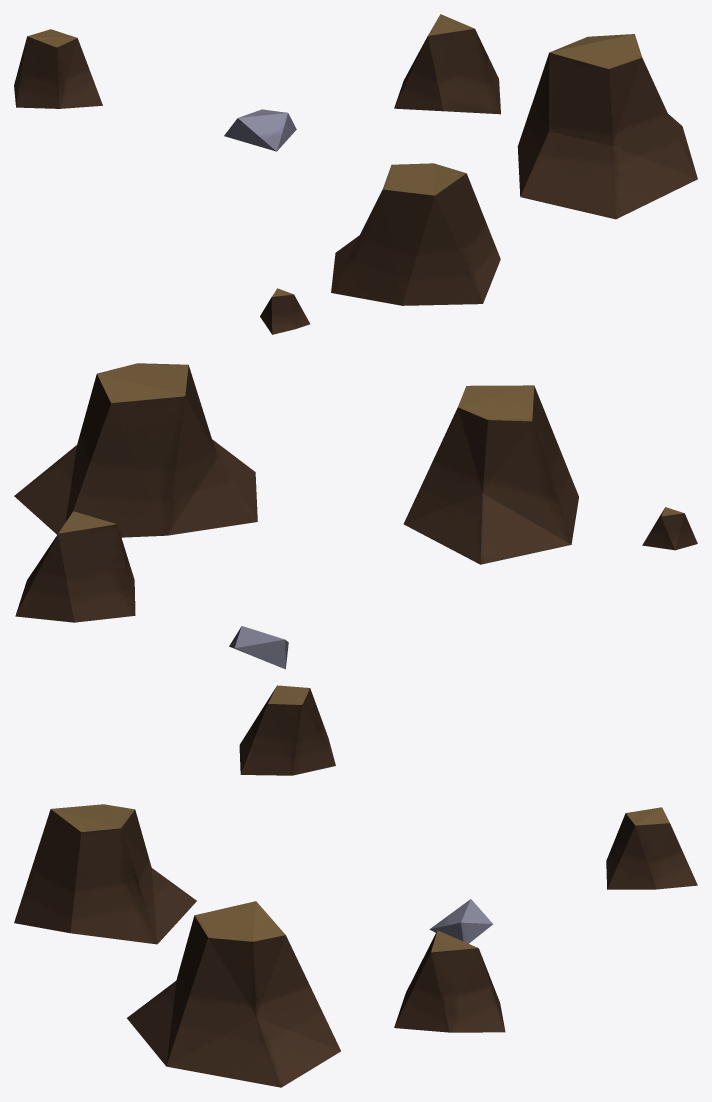
The model's file is tile_wood_2_ruin_lod2.fbx.
3 views of the same model, one above another, from view 1: azimuth 30°, elevation 25°; view 2: azimuth 150°, elevation 25°; view 3: azimuth 270°, elevation 25° (orthographic). The views are drawn at different scales.
Visible parts, largest first — view 1: wood_2_ruin_LOD2; view 2: wood_2_ruin_LOD2; view 3: wood_2_ruin_LOD2.
Part boxes in pixels (<box>): wood_2_ruin_LOD2: <box>14,14,697,334</box>; wood_2_ruin_LOD2: <box>14,363,697,775</box>; wood_2_ruin_LOD2: <box>14,804,697,1087</box>.
Bounding box in the file's own units: 0.0261 × 0.00568 × 0.0301.
